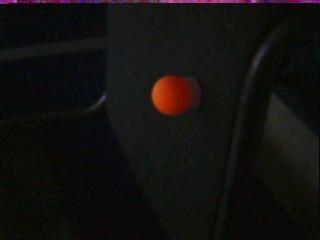oball: (151, 75, 191, 115)
